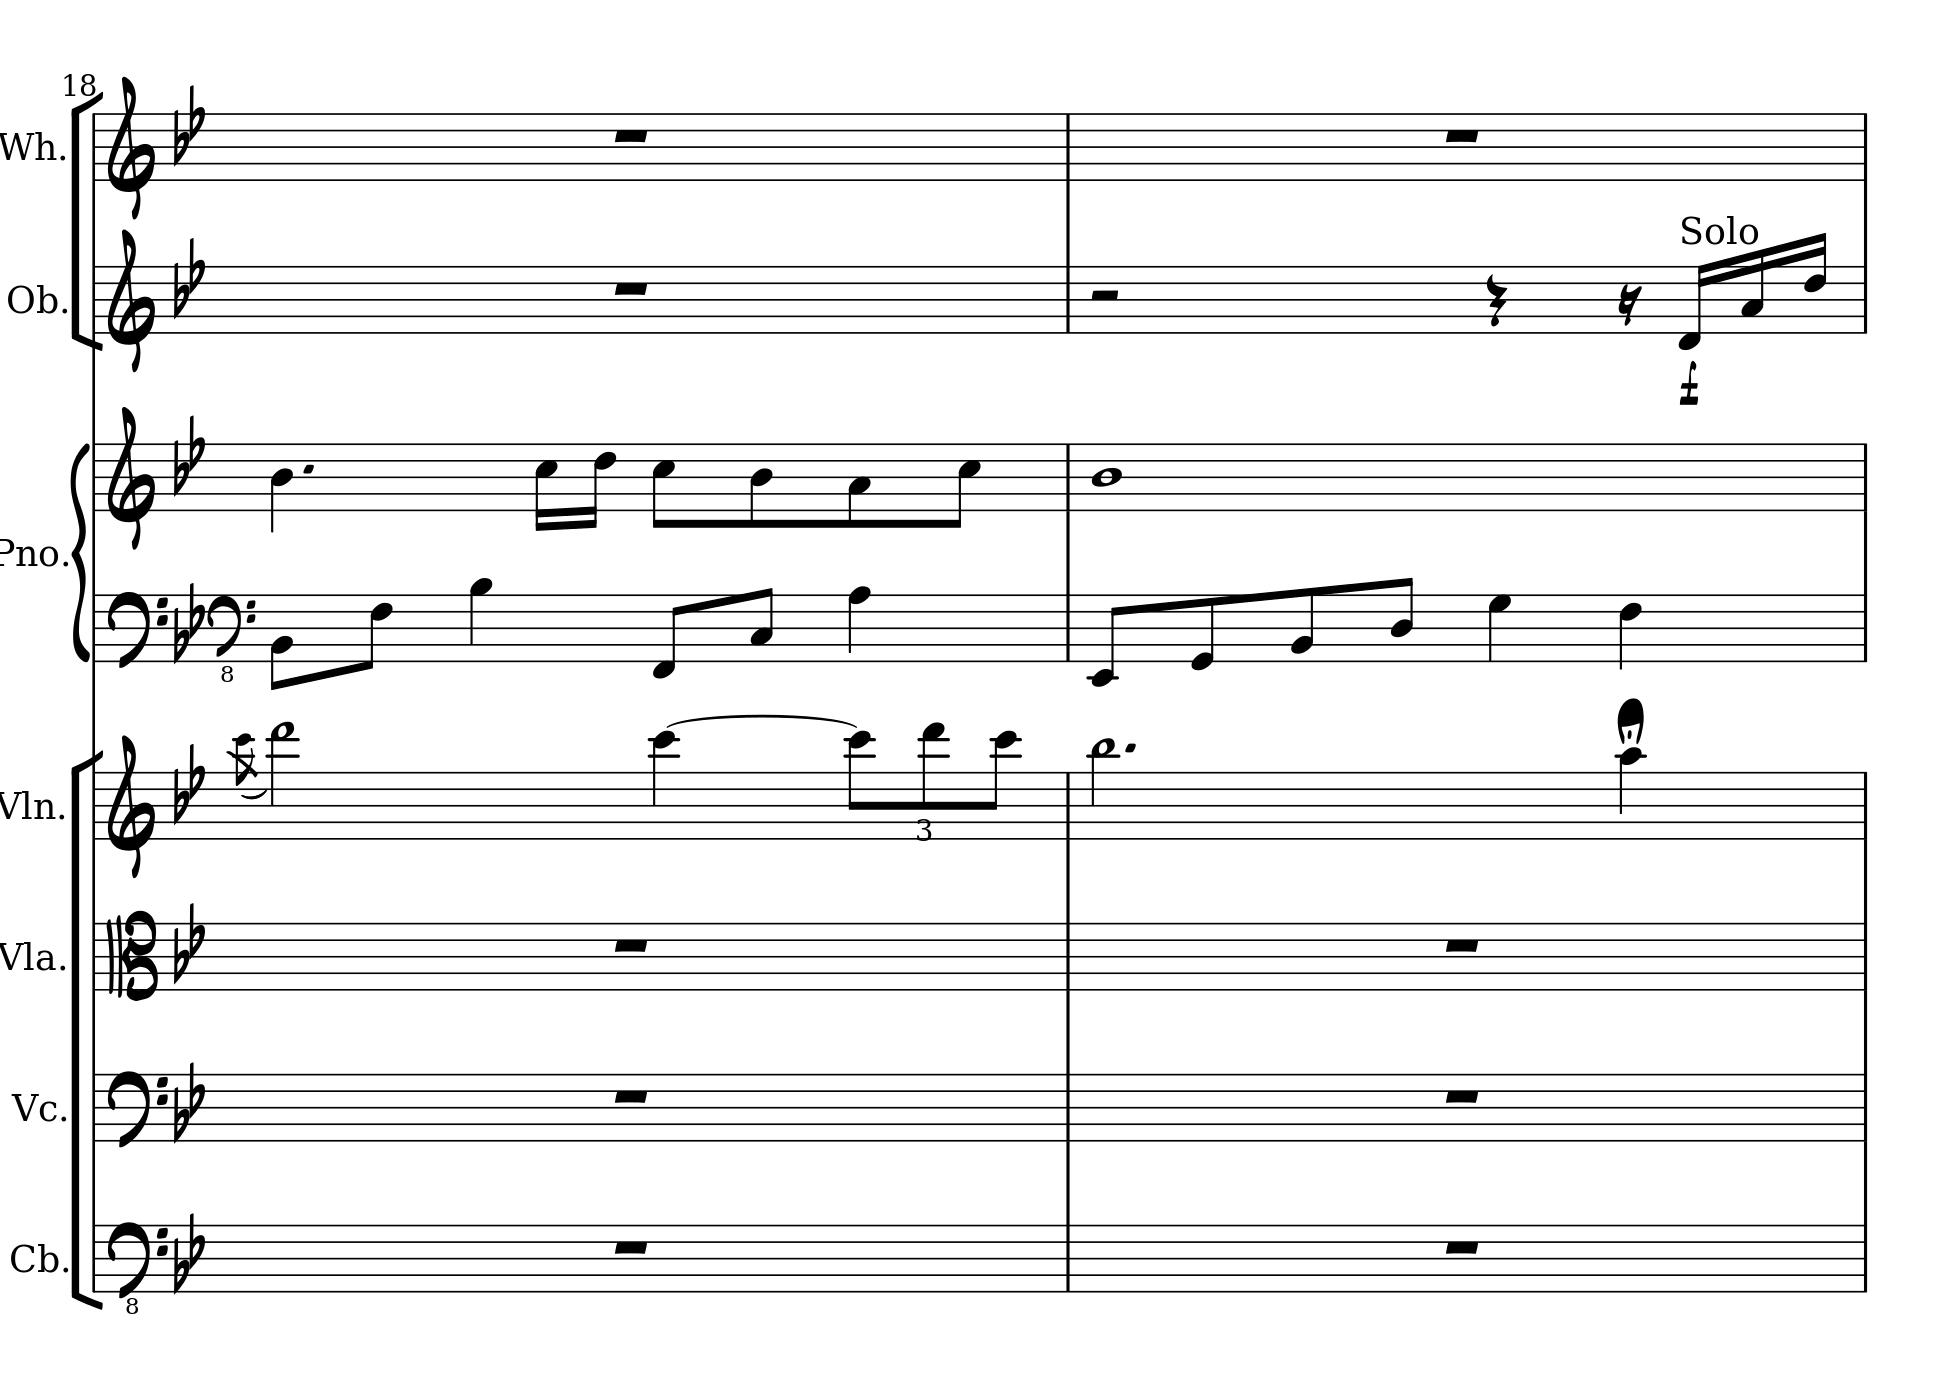1: (61, 70, 75, 97)
16_-1: (1677, 261, 1710, 352)
16_3: (1740, 246, 1767, 334)
16_5: (532, 441, 559, 532)
16_6: (582, 439, 616, 529), (1803, 229, 1830, 334)
1_4: (1090, 441, 1125, 511)
3: (915, 817, 931, 840)
4_10: (1617, 745, 1645, 841)
4_11: (1089, 736, 1117, 841)
4_12: (649, 729, 679, 841)
4_13: (268, 721, 298, 841)
4_4: (268, 441, 294, 535)
4_6: (1617, 591, 1644, 670)
4_7: (1488, 592, 1513, 664)
4_8: (847, 583, 871, 663)
4_9: (468, 576, 493, 664)
8: (78, 70, 97, 97)
8_-1: (651, 592, 684, 679)
8_-2: (1089, 592, 1125, 688)
8_0: (1189, 592, 1216, 672)
8_12: (985, 727, 1020, 841), (846, 727, 874, 841)
8_13: (916, 720, 948, 844)
8_2: (268, 592, 294, 691), (1290, 586, 1315, 664)
8_3: (846, 439, 871, 529), (748, 586, 774, 663)
8_4: (1389, 574, 1416, 664), (748, 441, 774, 529)
8_5: (948, 441, 982, 531), (651, 441, 676, 531)
8_6: (358, 592, 393, 672)
Acciaccature: (228, 730, 261, 838)
B_F: (171, 412, 205, 496), (172, 898, 205, 984), (172, 82, 205, 166), (172, 234, 205, 318), (172, 1059, 205, 1141), (172, 1210, 205, 1293), (172, 742, 205, 823), (172, 580, 204, 661)
Brace: (72, 433, 91, 667)
Bracke: (67, 745, 100, 1309), (69, 93, 100, 355)
Cbs: (7, 1239, 60, 1278)
Cclef: (103, 907, 159, 1002)
Fclef: (105, 1068, 168, 1149), (105, 589, 166, 670)
Gclef: (105, 226, 156, 372), (105, 403, 156, 549), (105, 733, 156, 877), (106, 73, 156, 220)
Lower_Fclef: (106, 1218, 168, 1315), (207, 591, 256, 682)
Ob: (6, 280, 61, 318)
Pno: (1, 535, 58, 570)
Rests1: (610, 1234, 652, 1258), (1441, 1234, 1483, 1258), (610, 1084, 652, 1107), (1441, 1084, 1483, 1107), (609, 934, 652, 955), (610, 124, 652, 145), (1441, 124, 1483, 145), (610, 277, 652, 298), (1441, 934, 1483, 955)
Rests16: (1617, 282, 1644, 328)
Rests2: (1087, 286, 1122, 304)
Rests4: (1485, 271, 1509, 330)
Single_barline: (1059, 442, 1080, 508), (1059, 1072, 1077, 1140), (1059, 112, 1077, 178), (1059, 265, 1077, 331), (1857, 265, 1875, 331), (1059, 922, 1077, 988), (1857, 1072, 1873, 1140), (1857, 112, 1873, 178), (1060, 594, 1077, 660), (1060, 772, 1077, 838), (1857, 772, 1873, 838), (1857, 922, 1873, 988), (1060, 1224, 1077, 1290), (1857, 444, 1873, 508), (1857, 595, 1873, 660), (1857, 1225, 1873, 1290), (87, 265, 100, 340), (85, 922, 100, 988), (85, 115, 100, 180), (88, 442, 102, 511), (87, 769, 100, 838), (87, 1075, 100, 1138), (87, 1225, 100, 1288), (88, 595, 100, 658)
Solo: (1680, 210, 1761, 244)
Vc: (9, 1087, 63, 1126)
Vla: (1, 934, 58, 981)
Vln: (1, 783, 58, 826)
dot: (1122, 738, 1140, 757), (300, 460, 316, 475)
f: (1677, 358, 1701, 408)
